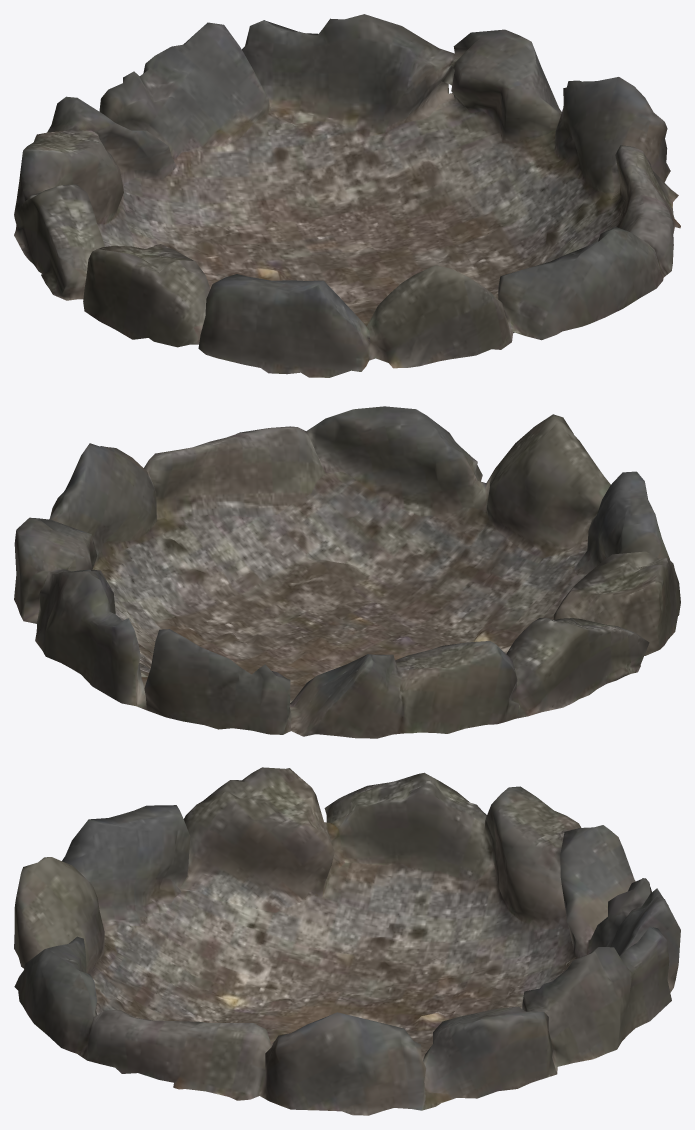
Rendered from ph_stone_fire_pit.glb.
The picture shows the model from 3 angles, top to bottom: view 1: azimuth 30°, elevation 25°; view 2: azimuth 150°, elevation 25°; view 3: azimuth 270°, elevation 25°; orthographic projection.
Parts seen in each view (by area): view 1: stone_fire_pit; view 2: stone_fire_pit; view 3: stone_fire_pit.
Boxes of the visible parts, box(x1,y1,x2,y2) form: stone_fire_pit: box(14, 14, 680, 377); stone_fire_pit: box(14, 406, 680, 738); stone_fire_pit: box(14, 767, 680, 1115).
Size of the model in its own units: 1.45 by 0.3883 by 1.43.
1 material, 1 textured.
